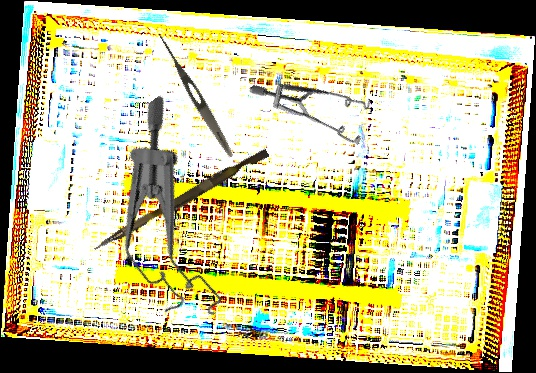Dressing Forceps: (154, 32, 237, 160)
Pusher: (92, 144, 270, 258)
Speculum: (58, 93, 285, 339), (247, 33, 388, 177)
